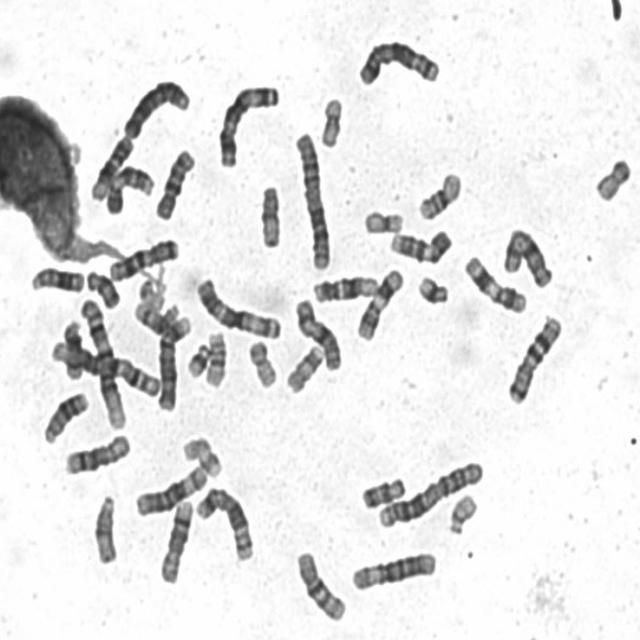A1: (50, 340, 160, 398), (79, 299, 127, 429)
A2: (378, 461, 484, 529), (293, 133, 331, 271)
A3: (194, 276, 282, 342), (216, 84, 279, 168)
B4: (123, 80, 192, 140), (157, 314, 191, 410)
B5: (195, 487, 255, 561), (358, 40, 440, 90)
C10: (296, 552, 347, 625), (155, 148, 195, 221)
C11: (463, 255, 527, 313), (356, 269, 404, 343)
C12: (90, 136, 135, 202), (312, 275, 379, 301)
C6: (135, 466, 208, 518), (350, 552, 436, 594)
C7: (507, 314, 564, 406), (108, 240, 180, 284)
C8: (160, 497, 195, 585), (65, 431, 130, 476)
C9: (105, 164, 155, 216), (389, 228, 454, 266)
D13: (42, 392, 90, 444), (30, 266, 84, 294)
D14: (132, 300, 180, 337), (60, 317, 86, 382)
D15: (92, 492, 122, 569), (255, 186, 287, 249)
E16: (418, 170, 463, 222), (205, 332, 227, 387)
E17: (286, 344, 326, 396), (181, 437, 222, 480)
E18: (362, 474, 405, 510), (86, 268, 120, 310)
F19: (318, 96, 344, 149), (362, 207, 403, 234)
F20: (594, 155, 636, 204), (249, 342, 277, 389)
G21: (418, 274, 452, 308), (185, 343, 212, 380)
G22: (446, 494, 479, 536), (138, 278, 165, 312)
X: (295, 298, 342, 371), (501, 227, 554, 288)
